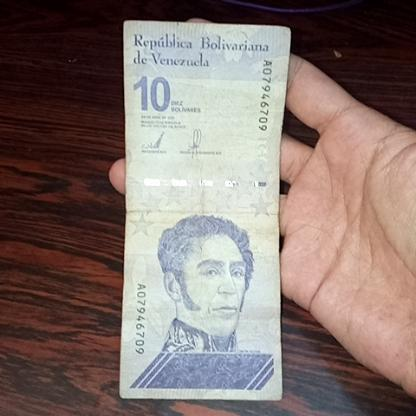ten-front-vef: (117, 25, 286, 410)
